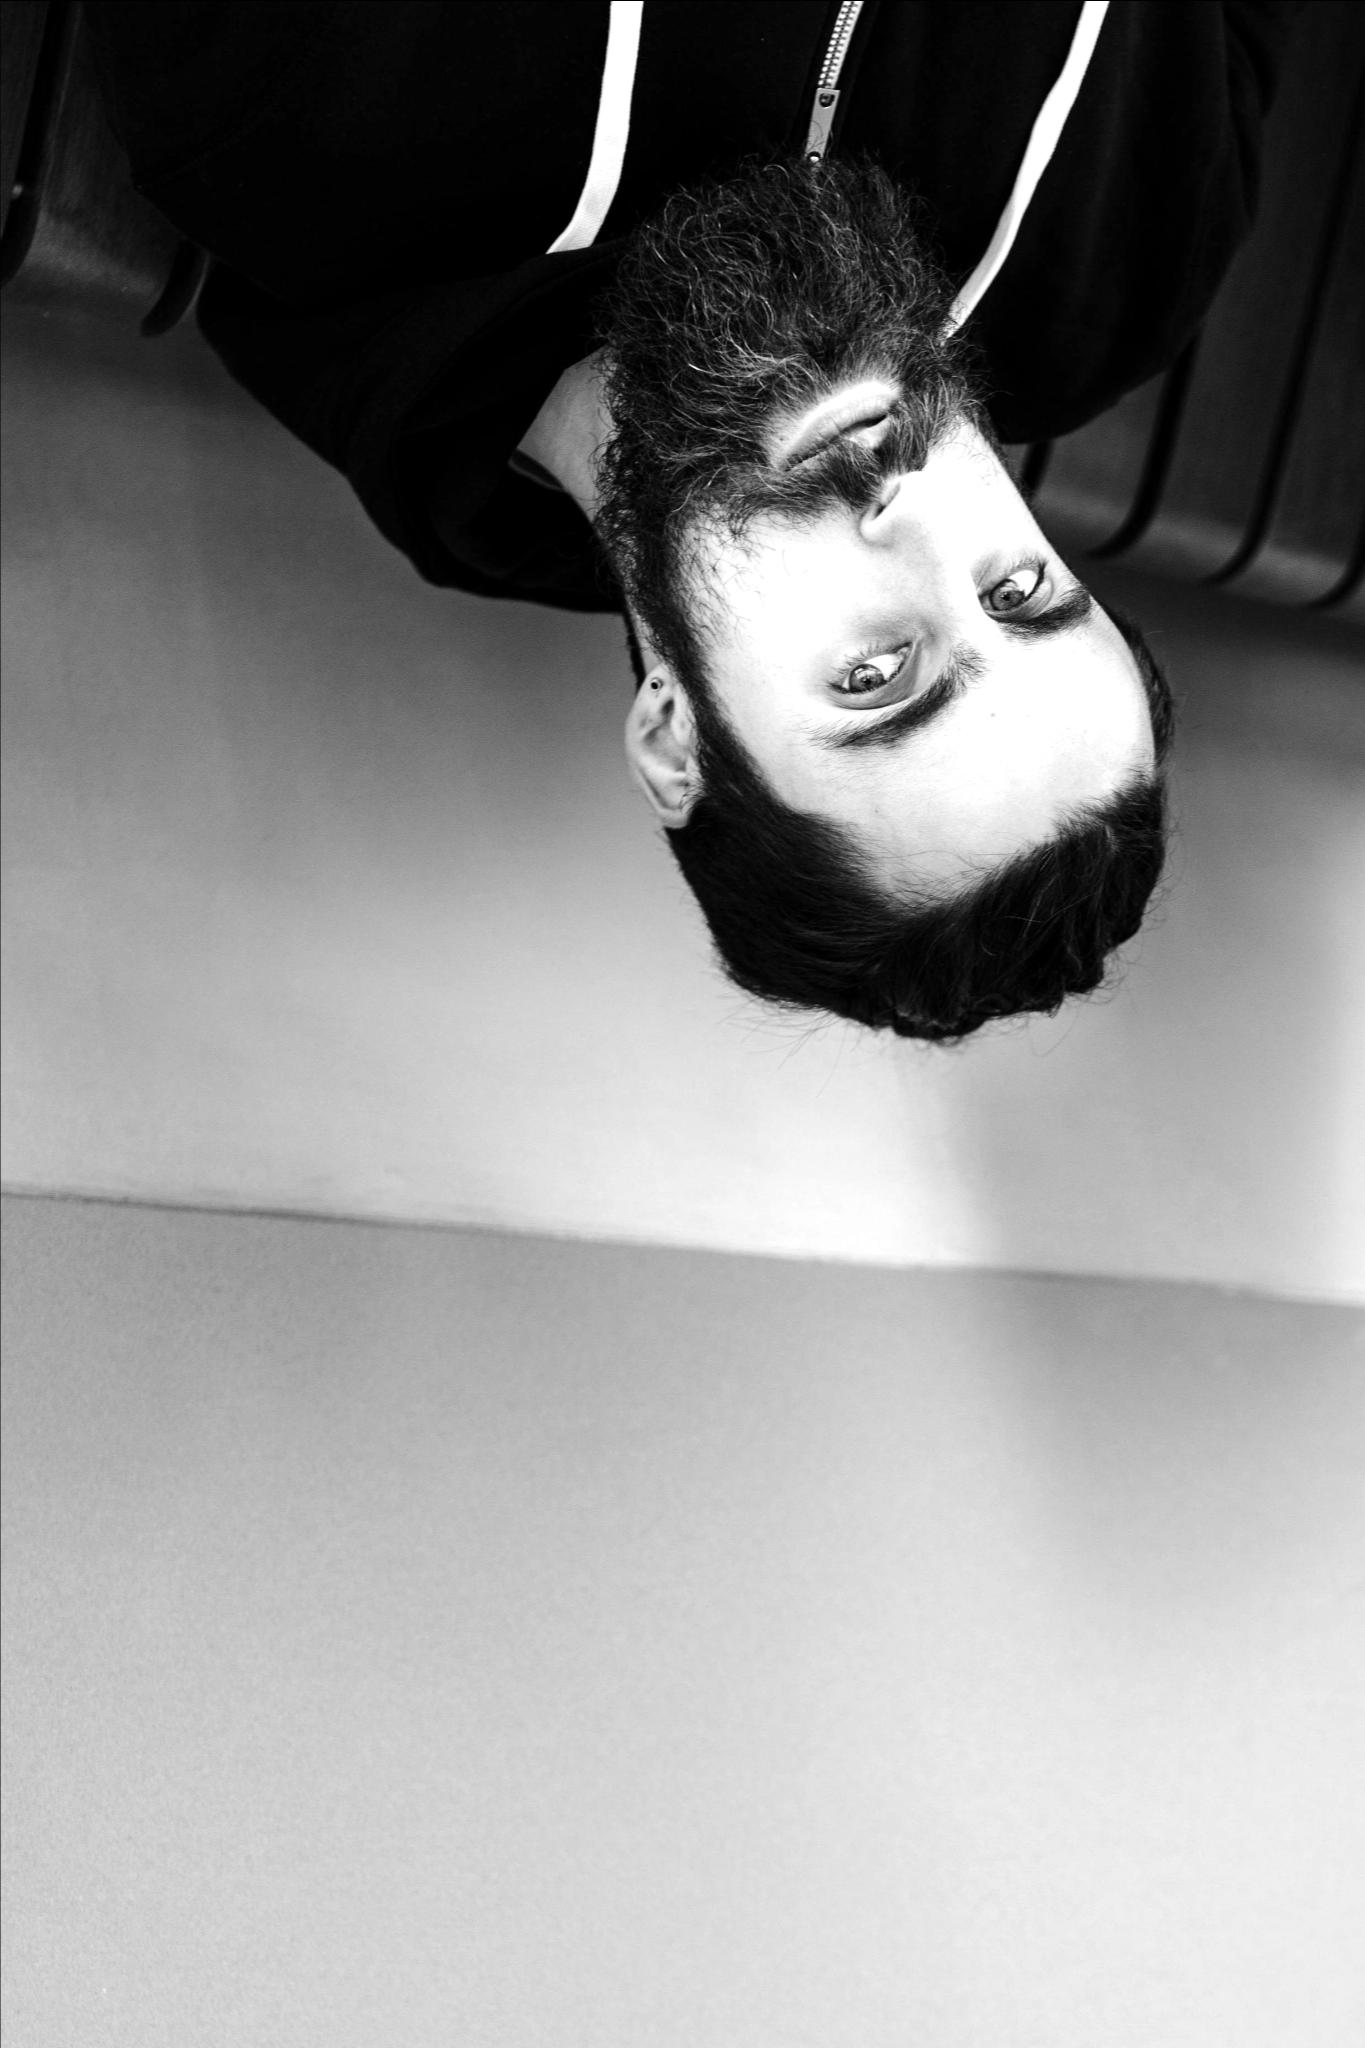bar: (606, 123, 984, 714)
